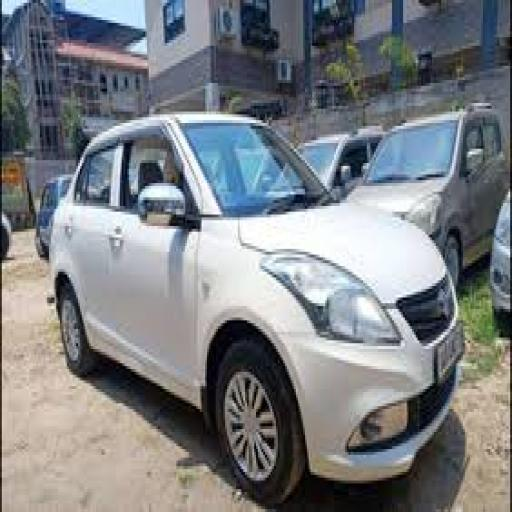License: (432, 322, 470, 385)
